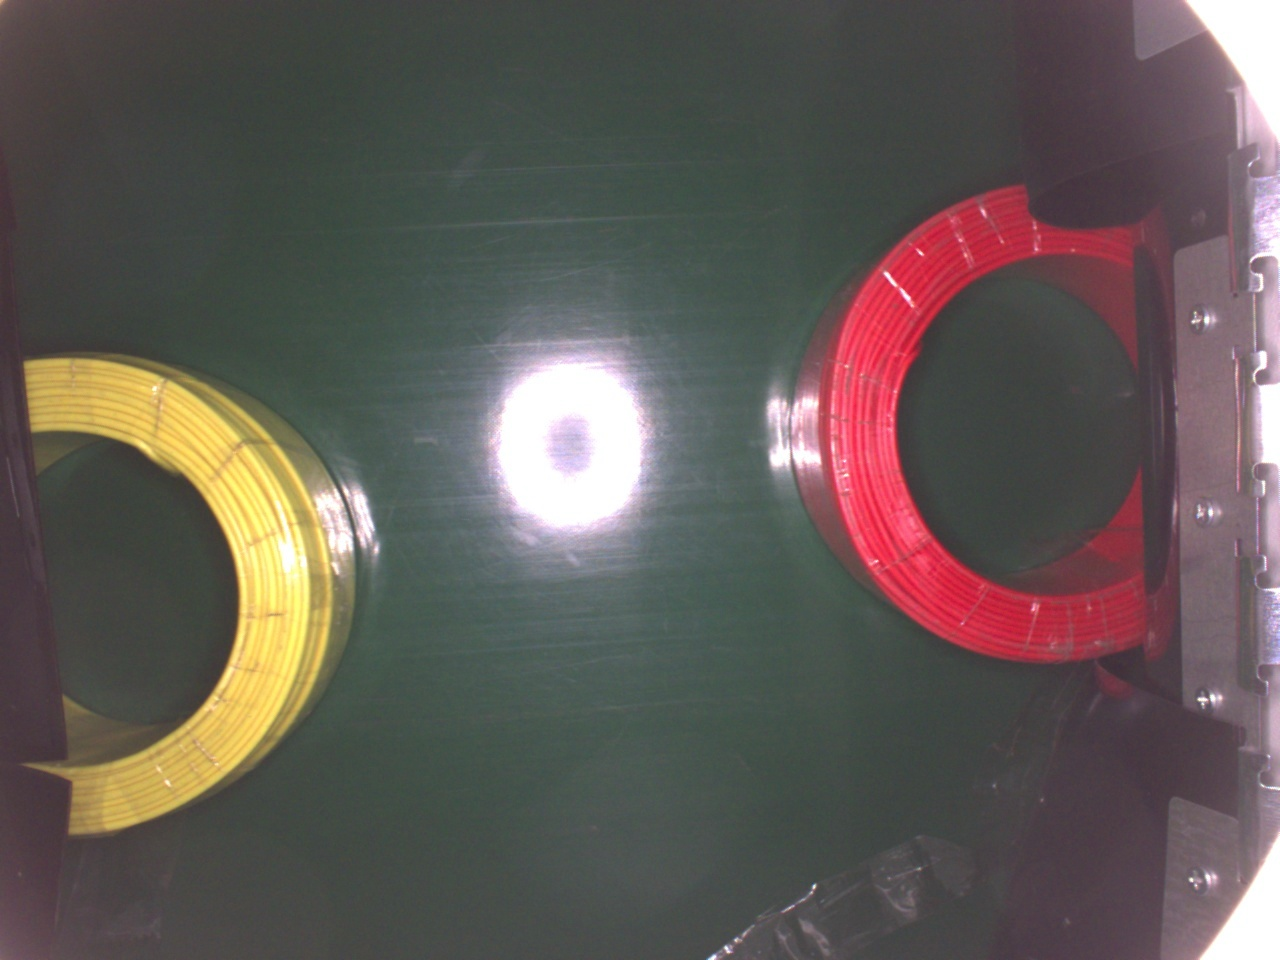red: (791, 176, 1158, 662)
yellow: (16, 351, 360, 838)
